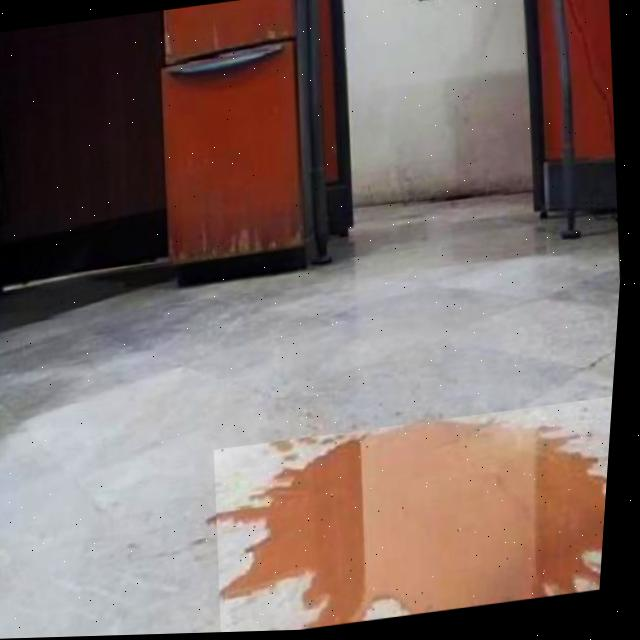spillage: (228, 426, 613, 628)
